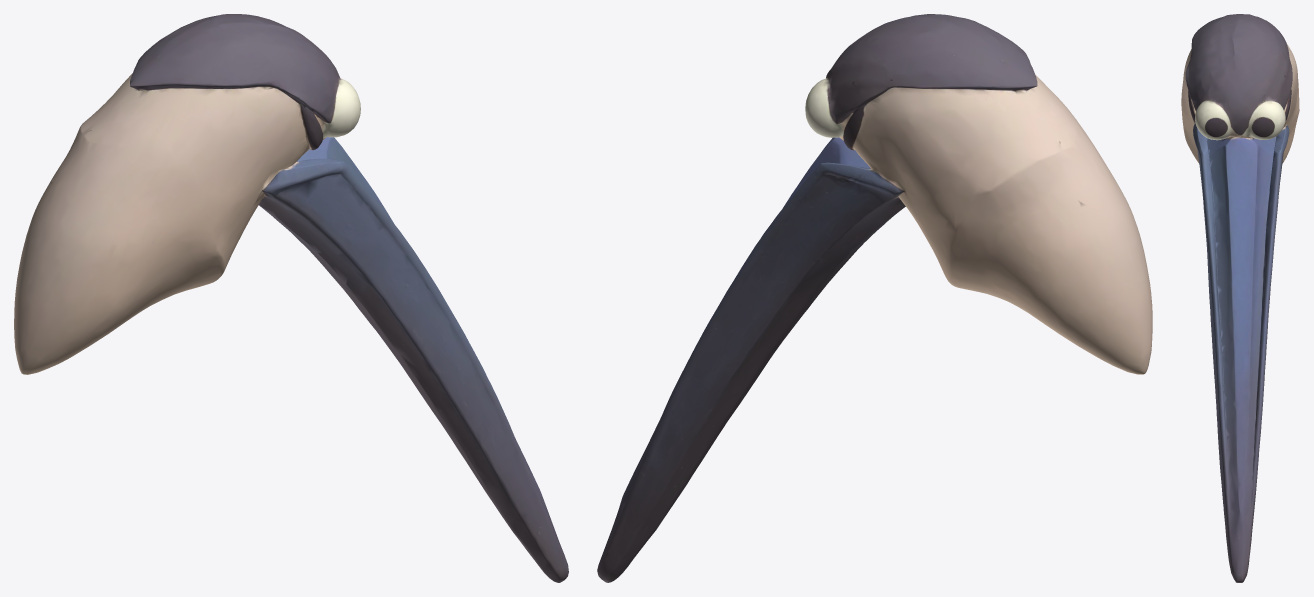
The model's file is head.glb.
3 views of the same model, side by side, from view 1: azimuth 30°, elevation 25°; view 2: azimuth 150°, elevation 25°; view 3: azimuth 270°, elevation 25° (orthographic). The views are drawn at different scales.
Parts seen in each view (by area): view 1: tripo_node_ec51bc69-5746-41bd-9e65-307ef4f425c2; view 2: tripo_node_ec51bc69-5746-41bd-9e65-307ef4f425c2; view 3: tripo_node_ec51bc69-5746-41bd-9e65-307ef4f425c2.
Boxes of the visible parts, <box> form: tripo_node_ec51bc69-5746-41bd-9e65-307ef4f425c2: <box>14,14,568,582</box>; tripo_node_ec51bc69-5746-41bd-9e65-307ef4f425c2: <box>597,14,1152,582</box>; tripo_node_ec51bc69-5746-41bd-9e65-307ef4f425c2: <box>1181,14,1299,582</box>.
Size of the model in its own units: 0.8976 by 1 by 0.2391.
Materials: 1 (1 with a texture image).
